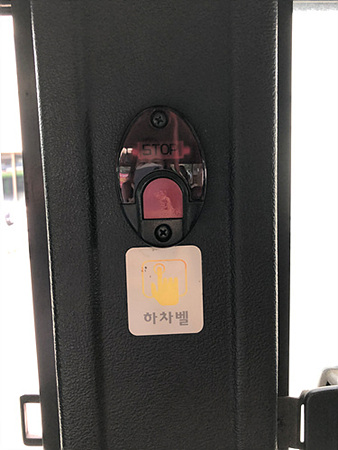bell: (114, 104, 212, 247)
